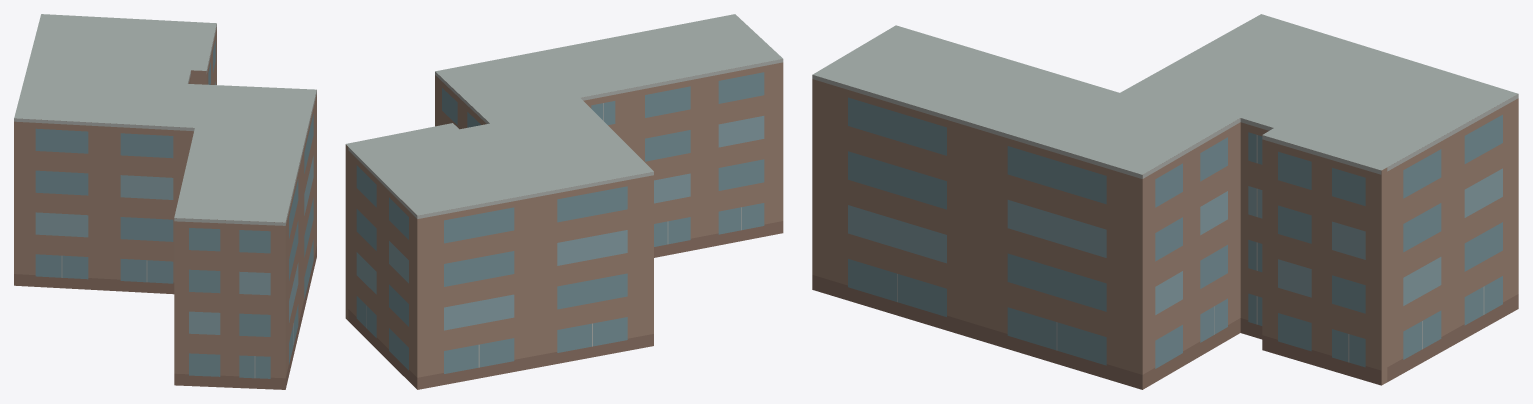
File: survey-upis-32652622.glb
The picture shows the model from 3 angles, left to right: view 1: azimuth 30°, elevation 25°; view 2: azimuth 150°, elevation 25°; view 3: azimuth 270°, elevation 25°; orthographic projection. The views are drawn at different scales.
Parts seen in each view (by area): view 1: survey-upis-32652622.tmp; view 2: survey-upis-32652622.tmp; view 3: survey-upis-32652622.tmp.
Part boxes in pixels (bbox=[...]): survey-upis-32652622.tmp: bbox=[14, 14, 316, 389]; survey-upis-32652622.tmp: bbox=[345, 14, 783, 389]; survey-upis-32652622.tmp: bbox=[812, 14, 1518, 389].
Bounding box in the file's own units: 19.58 × 12.2 × 36.32.
